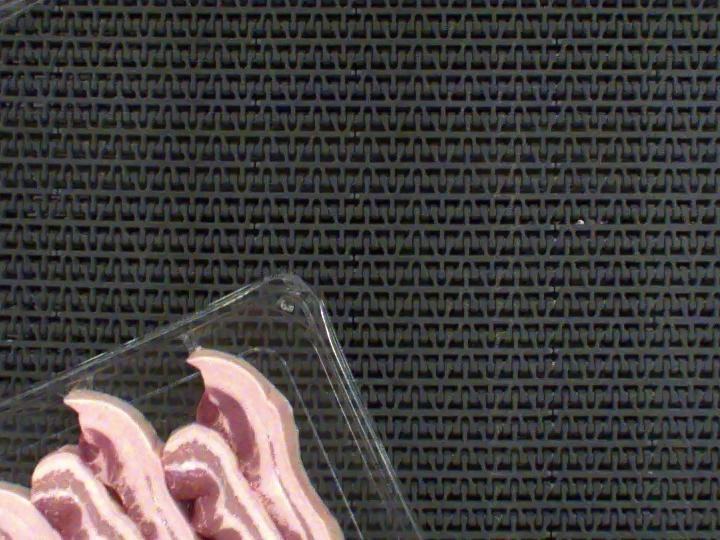packaging-error: (50, 374, 104, 394), (177, 332, 213, 357)
